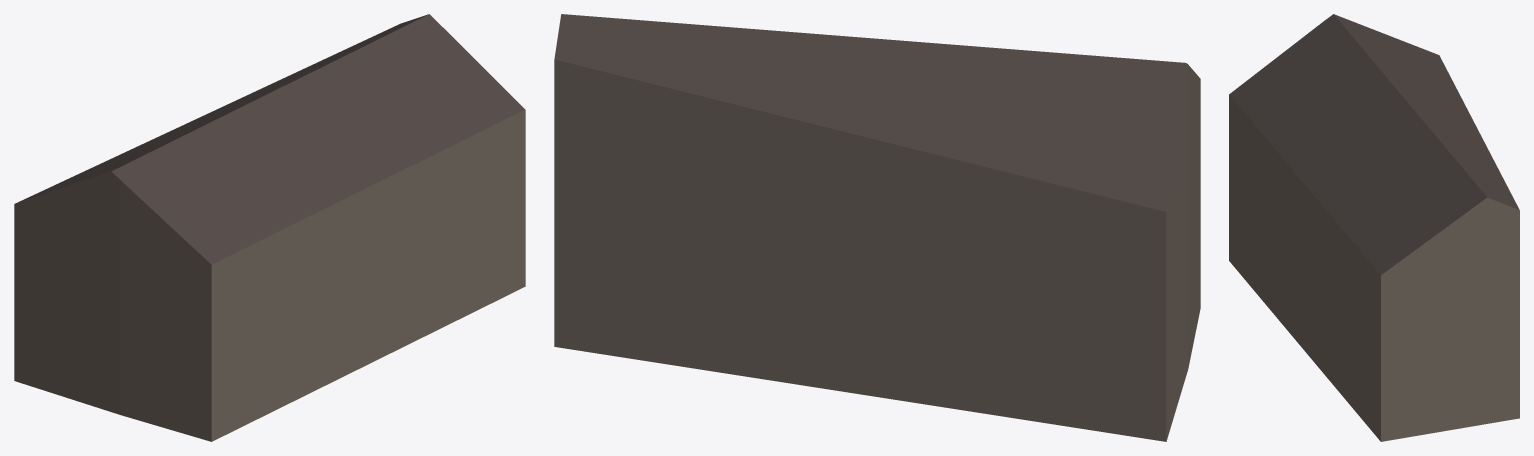
3 renders of one model, left to right at view 1: azimuth 30°, elevation 25°; view 2: azimuth 150°, elevation 25°; view 3: azimuth 270°, elevation 25°, orthographic. The views are drawn at different scales.
Visible parts, largest first — view 1: HP-w1198893547; view 2: HP-w1198893547; view 3: HP-w1198893547.
Boxes of the visible parts, box(x1,y1,x2,y2) form: HP-w1198893547: box(14, 14, 525, 441); HP-w1198893547: box(554, 14, 1200, 441); HP-w1198893547: box(1229, 14, 1519, 441).
Bounding box in the file's own units: 17.02 × 8.16 × 9.49.
